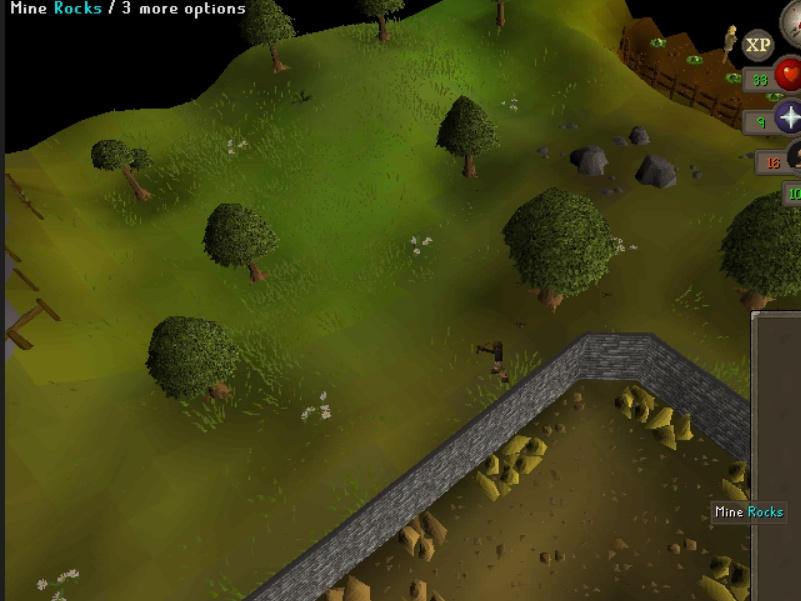clay: (392, 510, 464, 564)
gold: (468, 453, 525, 502), (499, 424, 556, 473), (700, 550, 752, 601), (715, 459, 756, 517), (647, 403, 694, 453), (613, 381, 656, 424)
